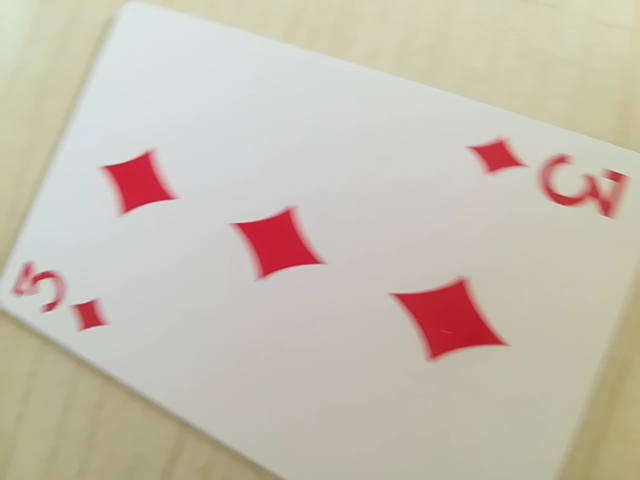fk 3: (451, 137, 639, 225), (4, 251, 124, 337)
